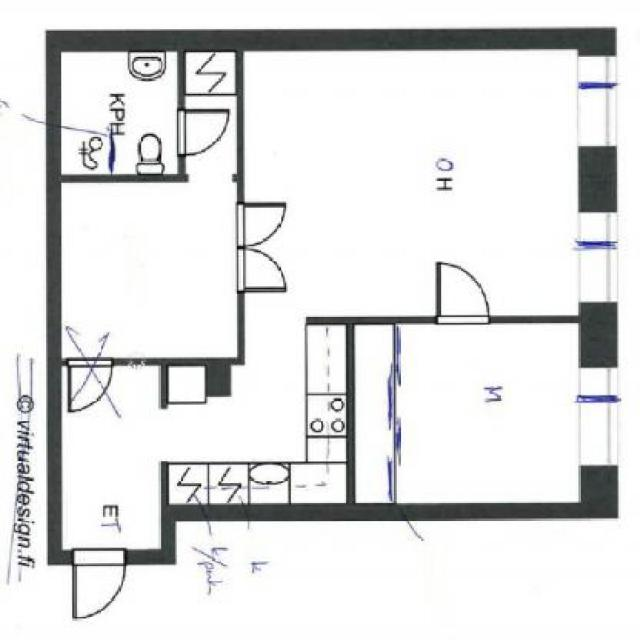door: (234, 202, 294, 298), (72, 549, 130, 622), (435, 258, 491, 331), (68, 352, 112, 414), (175, 111, 234, 151)
window: (578, 368, 620, 468), (577, 210, 615, 302), (580, 56, 618, 144)
zone: (63, 49, 582, 554), (65, 51, 238, 358), (356, 326, 578, 505), (63, 46, 183, 172)
